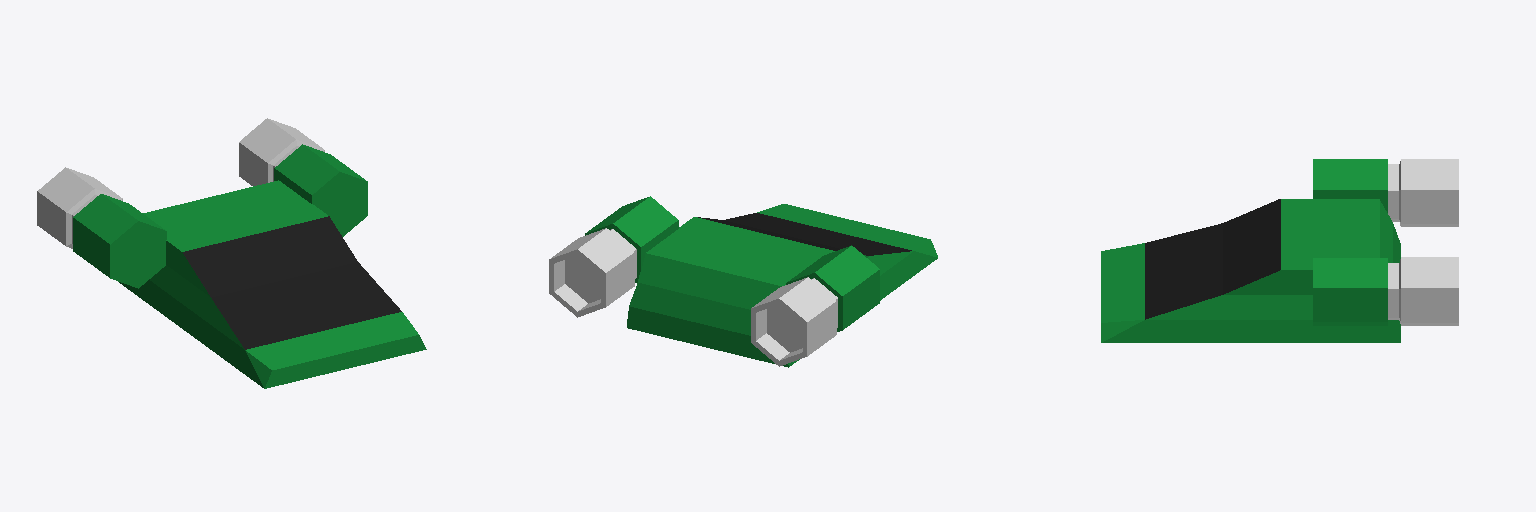
3 views of the same model, side by side, from view 1: azimuth 30°, elevation 25°; view 2: azimuth 150°, elevation 25°; view 3: azimuth 270°, elevation 25° (orthographic).
Visible parts, largest first — view 1: Cube_Cube.001; view 2: Cube_Cube.001; view 3: Cube_Cube.001.
Boxes of the visible parts, x1,y1,x2,y2 form: Cube_Cube.001: [37, 118, 426, 388]; Cube_Cube.001: [549, 196, 937, 367]; Cube_Cube.001: [1101, 159, 1458, 342].
Bounding box in the file's own units: 3 × 1.06 × 3.6.
Materials: 1 (1 with a texture image).